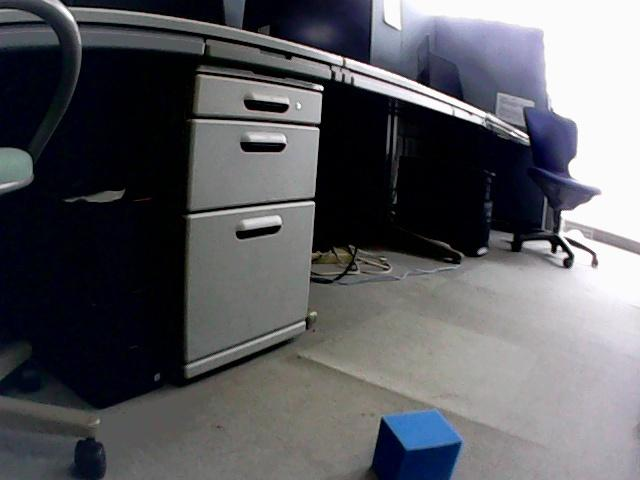blue_block: (373, 410, 462, 479)
